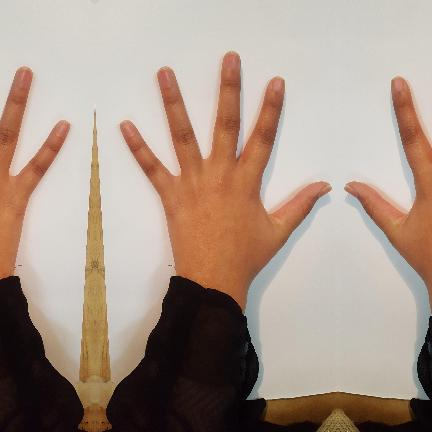Nail: (158, 69, 172, 87), (16, 69, 30, 87), (225, 51, 238, 68), (317, 184, 331, 198), (343, 184, 357, 198), (119, 121, 132, 136), (56, 121, 69, 136), (272, 77, 284, 91), (390, 77, 402, 91)
